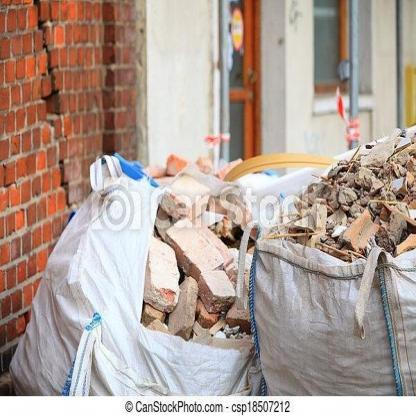brick: (1, 3, 415, 393)
